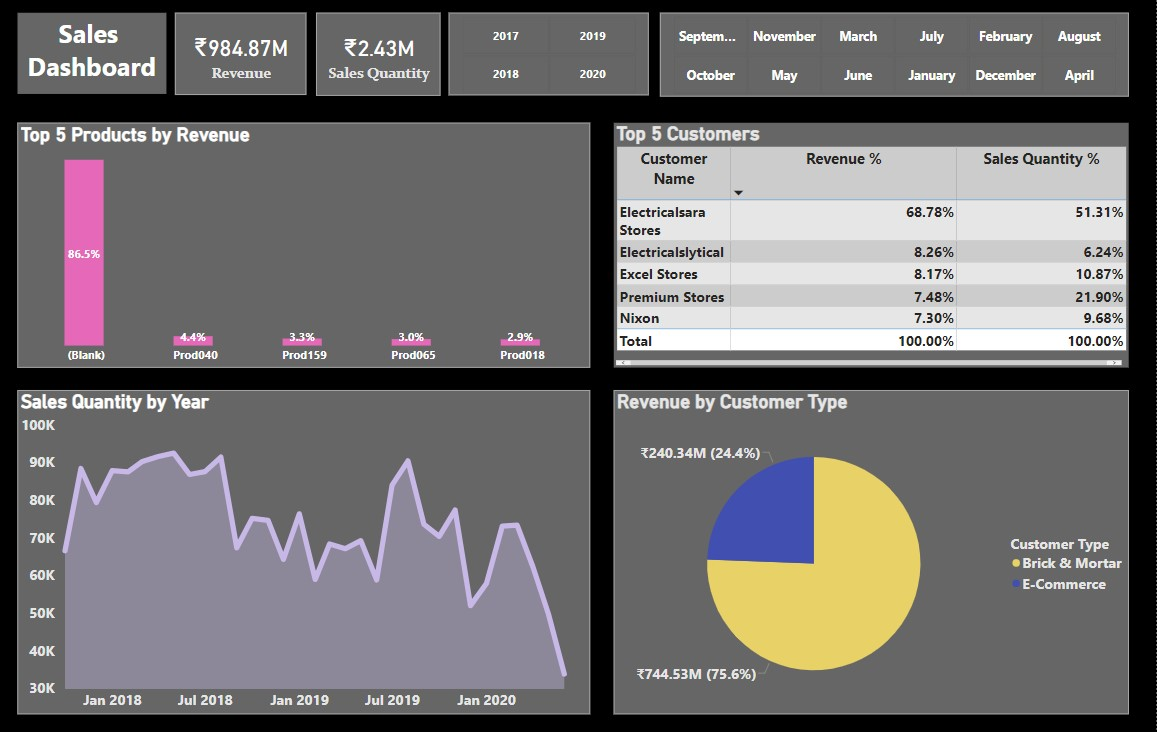

Layout of this report page (visuals, bound fields, positions):
{"tool":"powerbi","page":{"name":"Key Insights 2","canvas":[2200,1400],"ordinal":1},"visuals":[{"type":"card","fields":{"Values":["Base Measures.Revenue"]},"box":[332.5,25.9,249.9,155.6],"z":0},{"type":"card","fields":{"Values":["Base Measures.Sales Qty"]},"box":[601.3,25.9,235.8,158],"z":1000},{"type":"slicer","fields":{"Values":["sales date.month_name"]},"box":[1255,26.1,891.3,159.3],"z":2000},{"type":"slicer","fields":{"Values":["sales date.year"]},"box":[853.3,26.1,380.3,156.9],"z":3000},{"type":"textbox","box":[33.3,26.1,282.9,154.5],"z":4000},{"type":"tableEx","title":"Top 5 Customers","fields":{"Values":["sales customers.custmer_name","Divide(Base Measures.Revenue, ScopedEval(Base Measures.Revenue, []))","Base Measures.Sales Quantity"]},"box":[1167.1,235.3,979.3,465.9],"z":5000},{"type":"pieChart","title":"Revenue by Customer Type","fields":{"Y":["Base Measures.Revenue"],"Category":["sales customers.customer_type"]},"box":[1167.1,744,979.3,615.6],"z":6000},{"type":"areaChart","title":"Sales Quantity by Year","fields":{"Category":["sales date.cy_date.Variation.Date Hierarchy.Year","sales date.cy_date.Variation.Date Hierarchy.Quarter","sales date.cy_date.Variation.Date Hierarchy.Month","sales date.cy_date.Variation.Date Hierarchy.Day"],"Y":["Sum(sales transactions.sales_qty)"]},"box":[33.3,744,1088.6,615.6],"z":7000},{"type":"ribbonChart","title":"Top 5 Products by Revenue","fields":{"Category":["sales products.product_code"],"Y":["Divide(Base Measures.Revenue, ScopedEval(Base Measures.Revenue, []))"]},"box":[33.3,235.3,1088.6,465.9],"z":9000}]}

Visuals, with their boxes in screenshot pixels (x1, y1, x2, y2), scaled from the page's 2200x1400 canvas onto the 1157x732 screenshot:
card - Base Measures.Revenue: [left=175, top=14, right=306, bottom=95]
card - Base Measures.Sales Qty: [left=316, top=14, right=440, bottom=96]
slicer - sales date.month_name: [left=660, top=14, right=1129, bottom=97]
slicer - sales date.year: [left=449, top=14, right=649, bottom=96]
textbox: [left=18, top=14, right=166, bottom=94]
"Top 5 Customers" tableEx: [left=614, top=123, right=1129, bottom=367]
"Revenue by Customer Type" pieChart: [left=614, top=389, right=1129, bottom=711]
"Sales Quantity by Year" areaChart: [left=18, top=389, right=590, bottom=711]
"Top 5 Products by Revenue" ribbonChart: [left=18, top=123, right=590, bottom=367]
